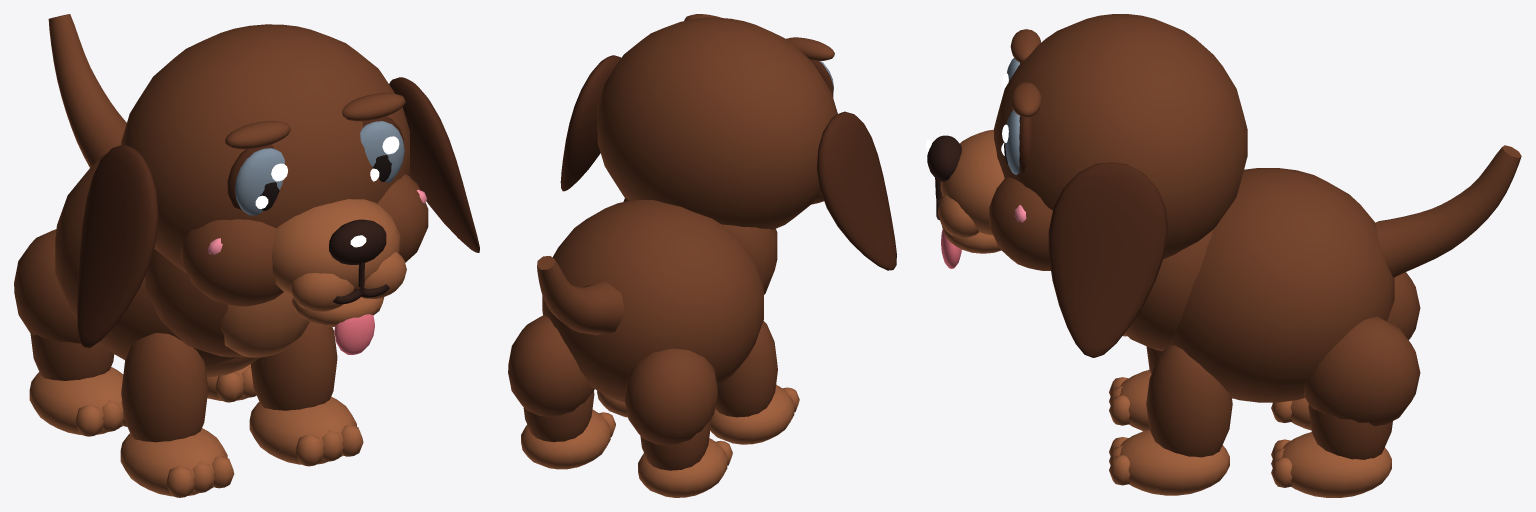
The model's file is cocoa.glb.
The picture shows the model from 3 angles, left to right: view 1: azimuth 30°, elevation 25°; view 2: azimuth 150°, elevation 25°; view 3: azimuth 270°, elevation 25°; orthographic projection. The views are drawn at different scales.
Parts seen in each view (by area): view 1: cocoa_Skull, cocoa_EarFlap_L, cocoa_LegFur_FL, cocoa_Jowl_L, cocoa_Muzzle, cocoa_EarFlap_R, cocoa_TailFur, cocoa_Torso, cocoa_LegFur_FR, cocoa_Chest, cocoa_Haunch_BL, cocoa_Bib (+25 smaller); view 2: cocoa_Skull, cocoa_Torso, cocoa_EarFlap_L, cocoa_Haunch_BL, cocoa_Haunch_BR, cocoa_TailFur, cocoa_LegFur_FL, cocoa_EarFlap_R, cocoa_Paw_BR, cocoa_Paw_BL, cocoa_Paw_FL, cocoa_LegFur_BL (+3 smaller); view 3: cocoa_Skull, cocoa_Torso, cocoa_EarFlap_R, cocoa_Haunch_BR, cocoa_LegFur_FR, cocoa_TailFur, cocoa_Paw_FR, cocoa_Paw_BR, cocoa_Chest, cocoa_Jowl_R, cocoa_Muzzle, cocoa_LegFur_BR (+9 smaller).
Part boxes in pixels (x1,y1,x2,y2): cocoa_Skull: (121,24,409,273); cocoa_EarFlap_L: (77,145,158,347); cocoa_LegFur_FL: (121,333,208,442); cocoa_Jowl_L: (180,219,283,306); cocoa_Muzzle: (272,199,400,294); cocoa_EarFlap_R: (389,77,479,252); cocoa_TailFur: (48,14,126,167); cocoa_Torso: (55,153,238,365); cocoa_LegFur_FR: (250,321,337,410); cocoa_Chest: (145,248,244,357); cocoa_Haunch_BL: (14,229,80,343); cocoa_Bib: (220,292,309,357); cocoa_Skull: (597,17,837,229); cocoa_Torso: (542,199,763,402); cocoa_EarFlap_L: (817,111,896,270); cocoa_Haunch_BL: (625,348,717,445); cocoa_Haunch_BR: (508,315,594,416); cocoa_TailFur: (537,256,625,335); cocoa_LegFur_FL: (715,321,777,417); cocoa_EarFlap_R: (560,55,620,191); cocoa_Paw_BR: (521,410,610,469); cocoa_Paw_BL: (638,439,727,497); cocoa_Paw_FL: (710,385,794,444); cocoa_LegFur_BL: (640,420,710,470); cocoa_Skull: (994,14,1247,259); cocoa_Torso: (1167,168,1394,402); cocoa_EarFlap_R: (1048,162,1168,357); cocoa_Haunch_BR: (1303,316,1420,426); cocoa_LegFur_FR: (1146,345,1232,457); cocoa_TailFur: (1375,145,1521,277); cocoa_Paw_FR: (1119,429,1229,495); cocoa_Paw_BR: (1282,432,1391,497); cocoa_Chest: (1125,230,1212,351); cocoa_Jowl_R: (989,177,1052,270); cocoa_Muzzle: (940,129,1004,235); cocoa_LegFur_BR: (1308,403,1392,459).
Size of the model in its own units: 0.4389 by 0.483 by 0.6068.
